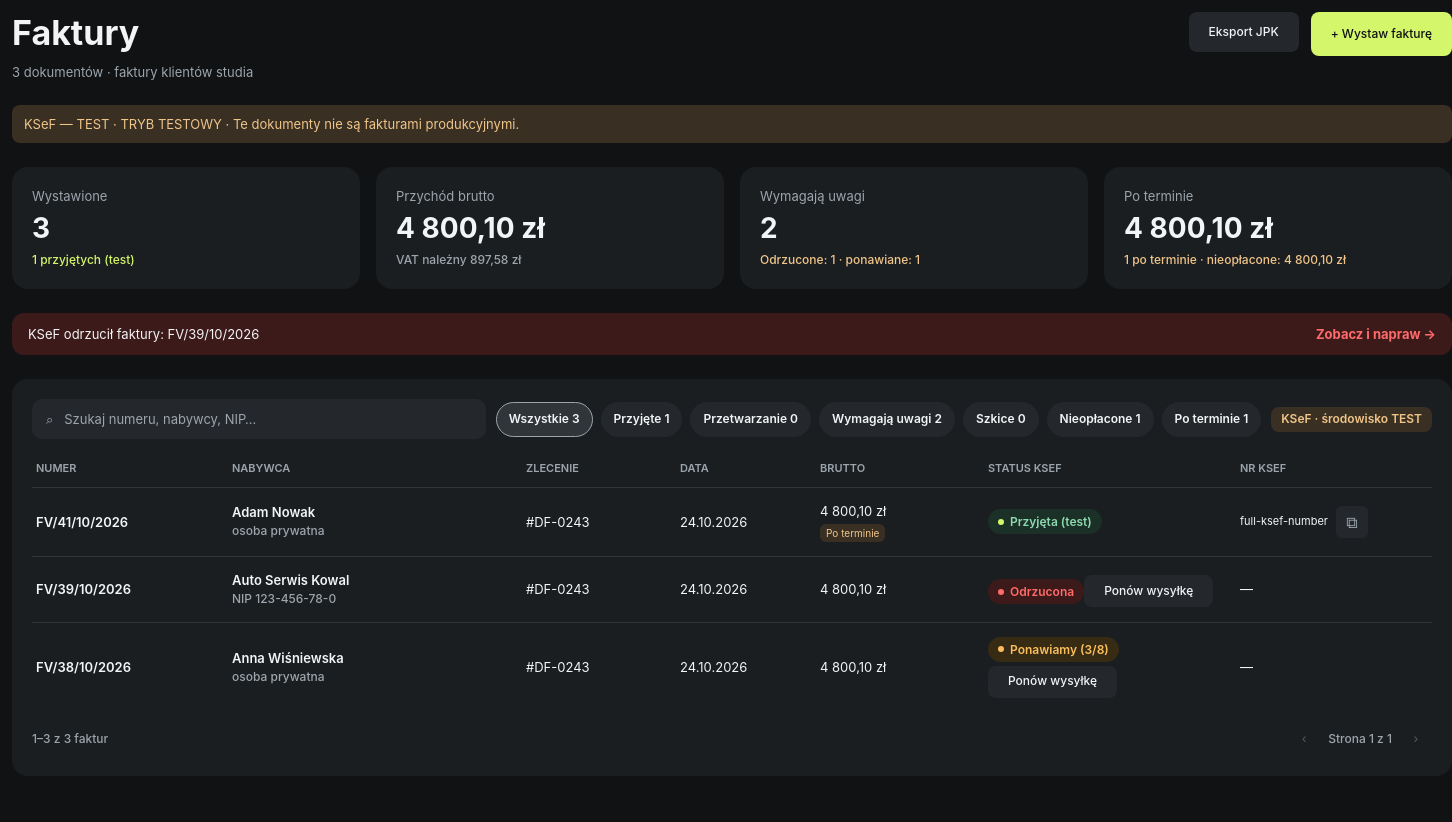
searches names and unformatted NIP, combines filters and clears no-results
Type "123456780" into the search field at coordinates (259, 419), box x1=32 y1=399 x2=486 y2=439
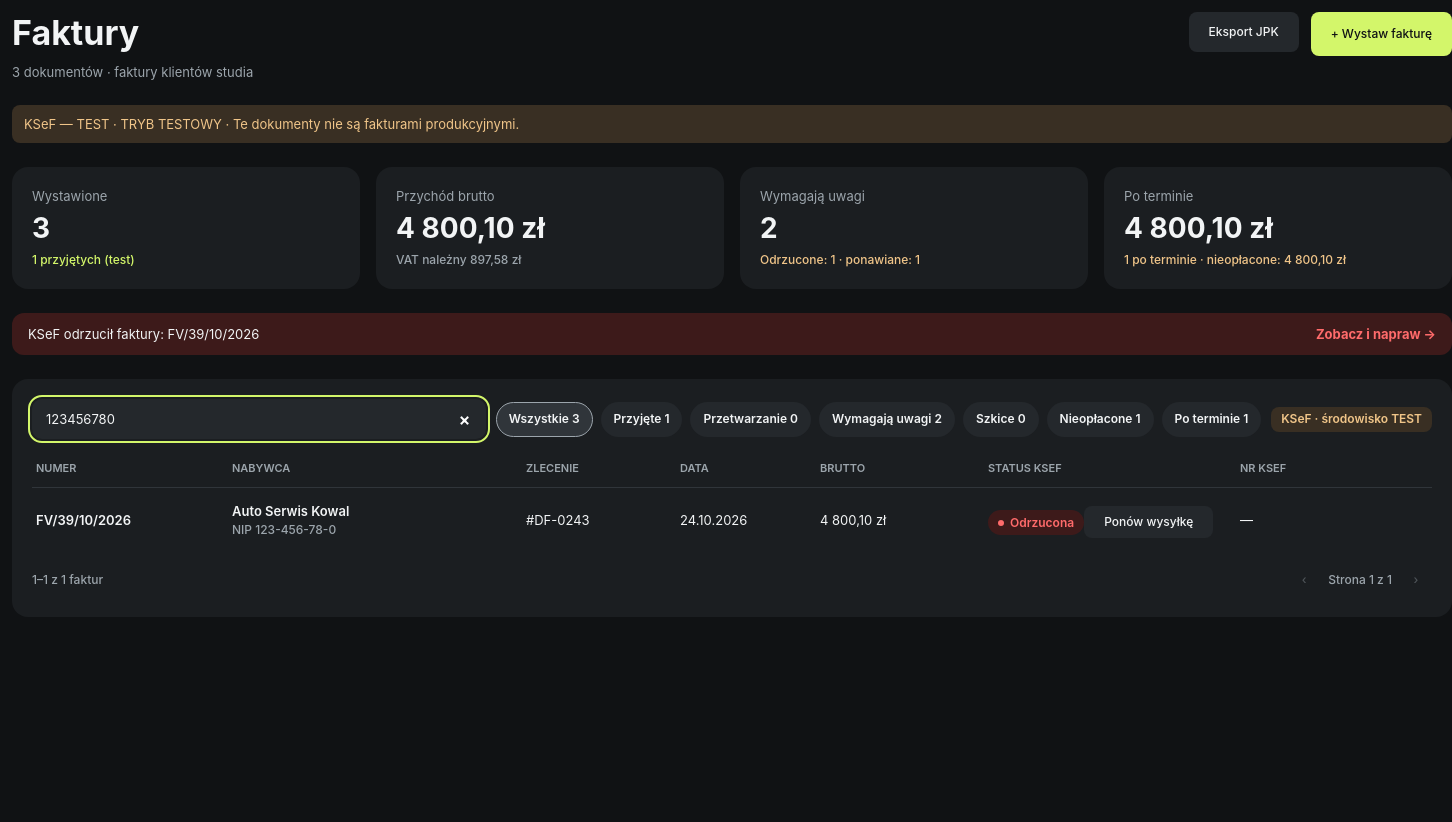
expect the number of rows is 2: met, box x1=32 y1=451 x2=1432 y2=487; x1=32 y1=487 x2=1432 y2=553
Replace the text in the search field with "wisniewska" at coordinates (259, 419), box x1=32 y1=399 x2=486 y2=439
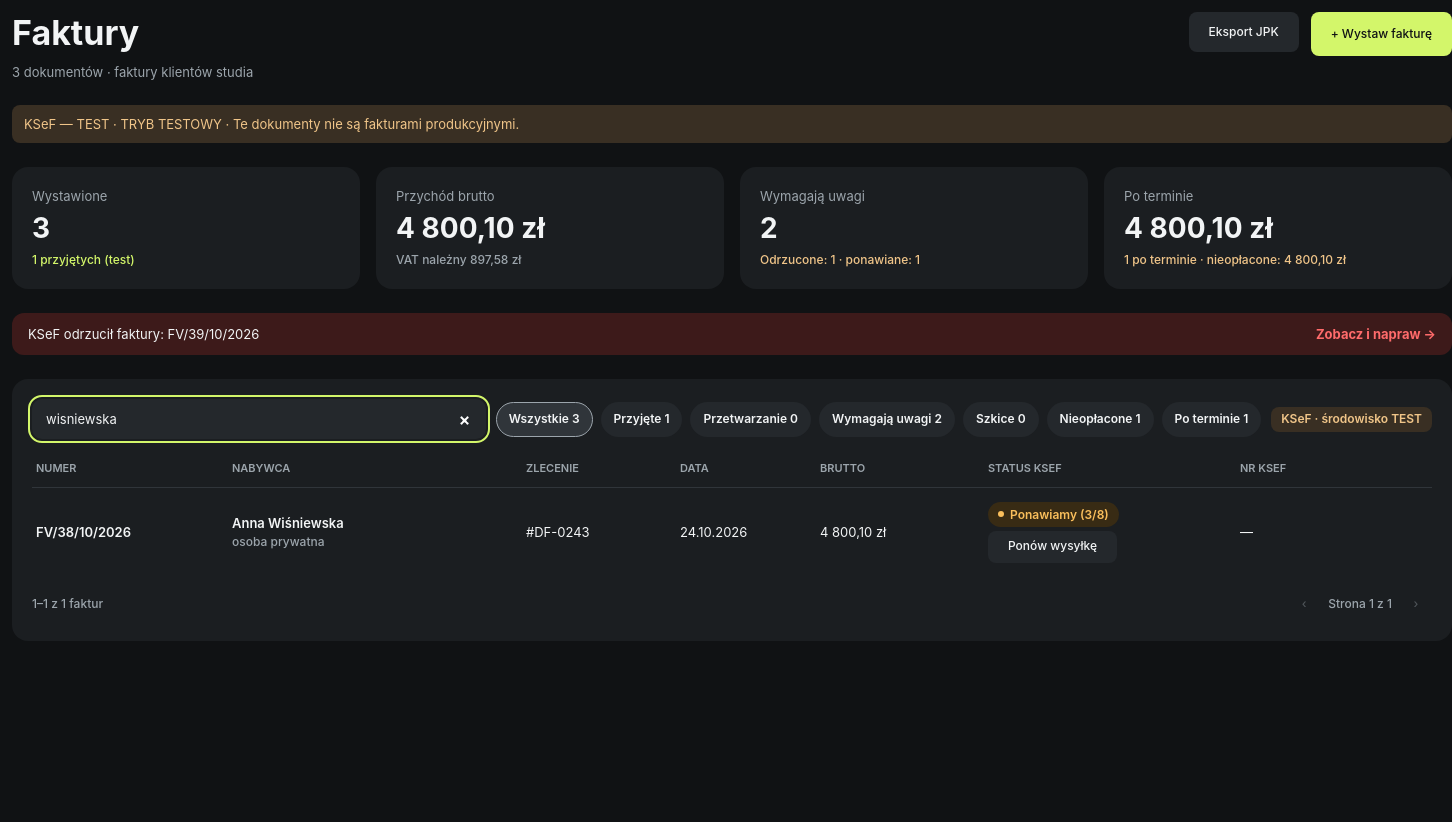
expect the text "Anna Wiśniewska" is shown: met, box x1=232 y1=515 x2=344 y2=531
Click the button "Przyjęte 1" at coordinates (642, 419), box x1=601 y1=402 x2=682 y2=437
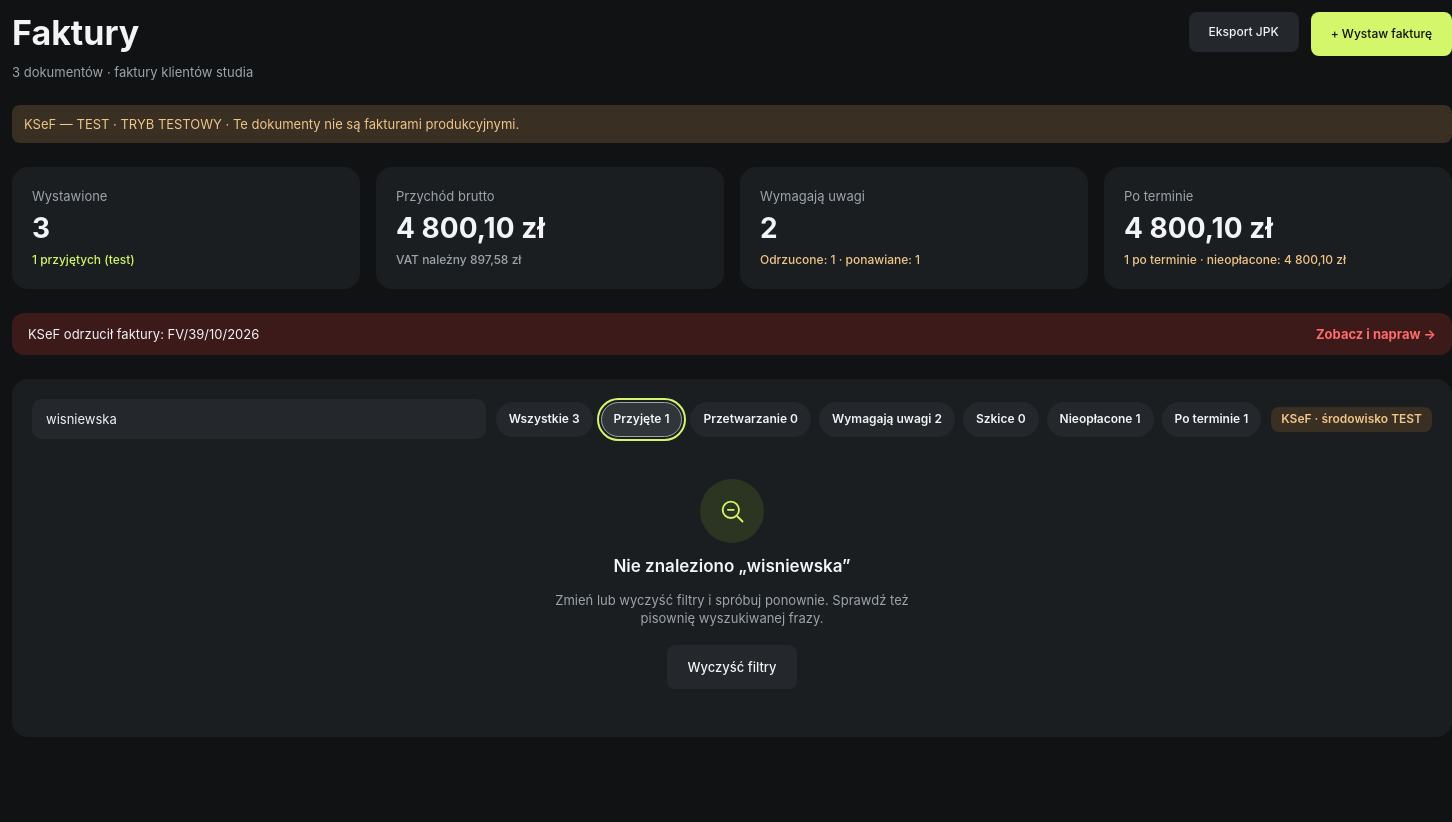
expect the heading "Nie znaleziono „wisniewska”" is shown: met, box x1=613 y1=555 x2=851 y2=579
Click the button "Wyczyść filtry" at coordinates (732, 667), box x1=667 y1=645 x2=796 y2=689
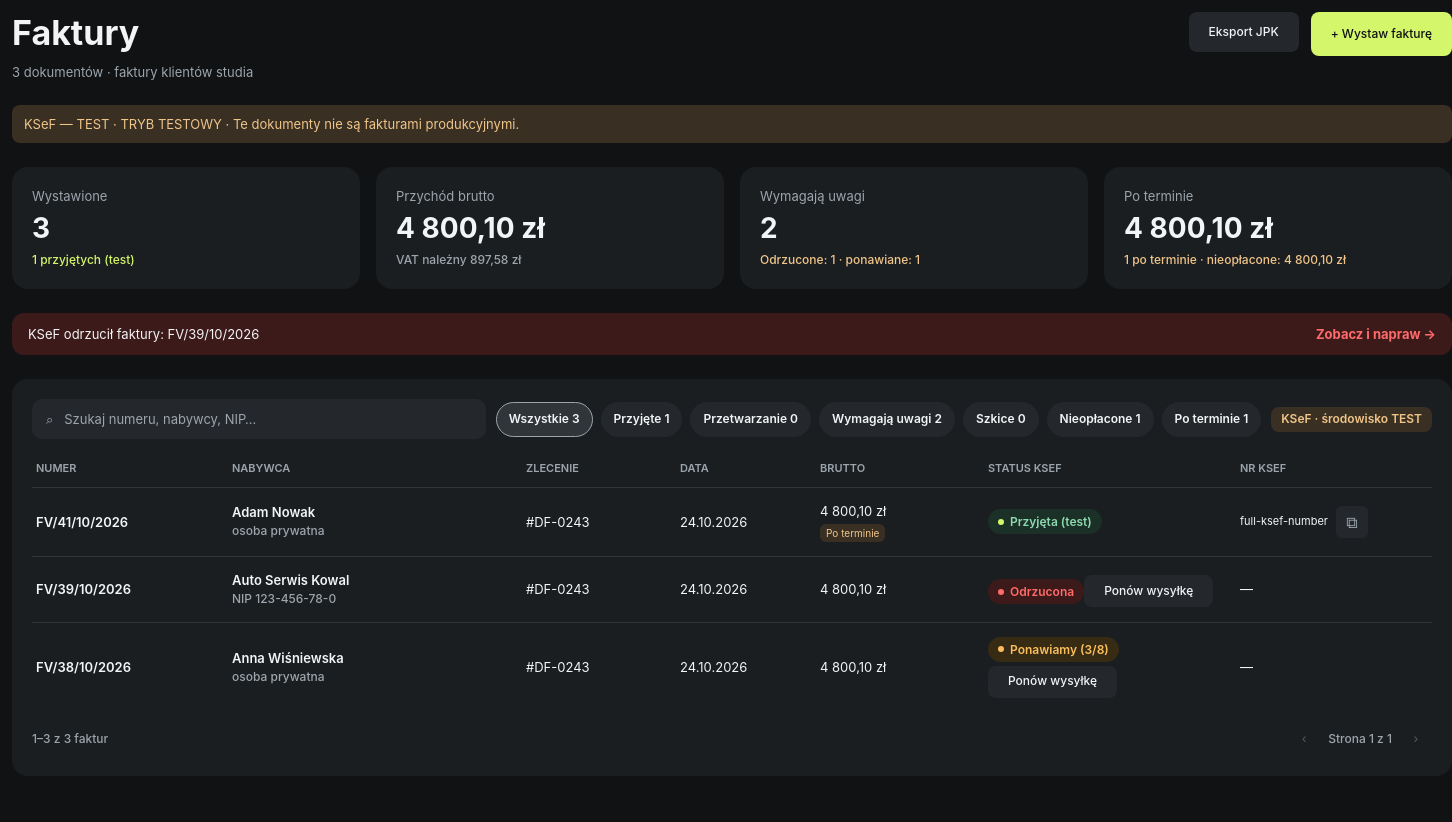
expect the number of rows is 4: met, box x1=32 y1=451 x2=1432 y2=487; x1=32 y1=487 x2=1432 y2=556; x1=32 y1=556 x2=1432 y2=622; x1=32 y1=622 x2=1432 y2=712
